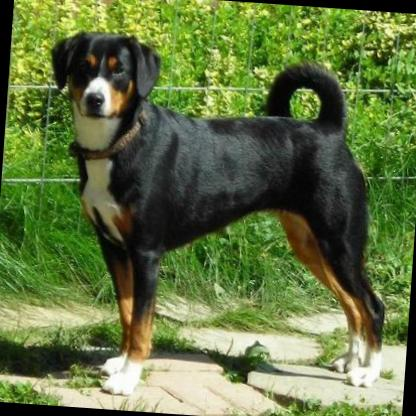EntleBucher: (24, 26, 404, 413)
